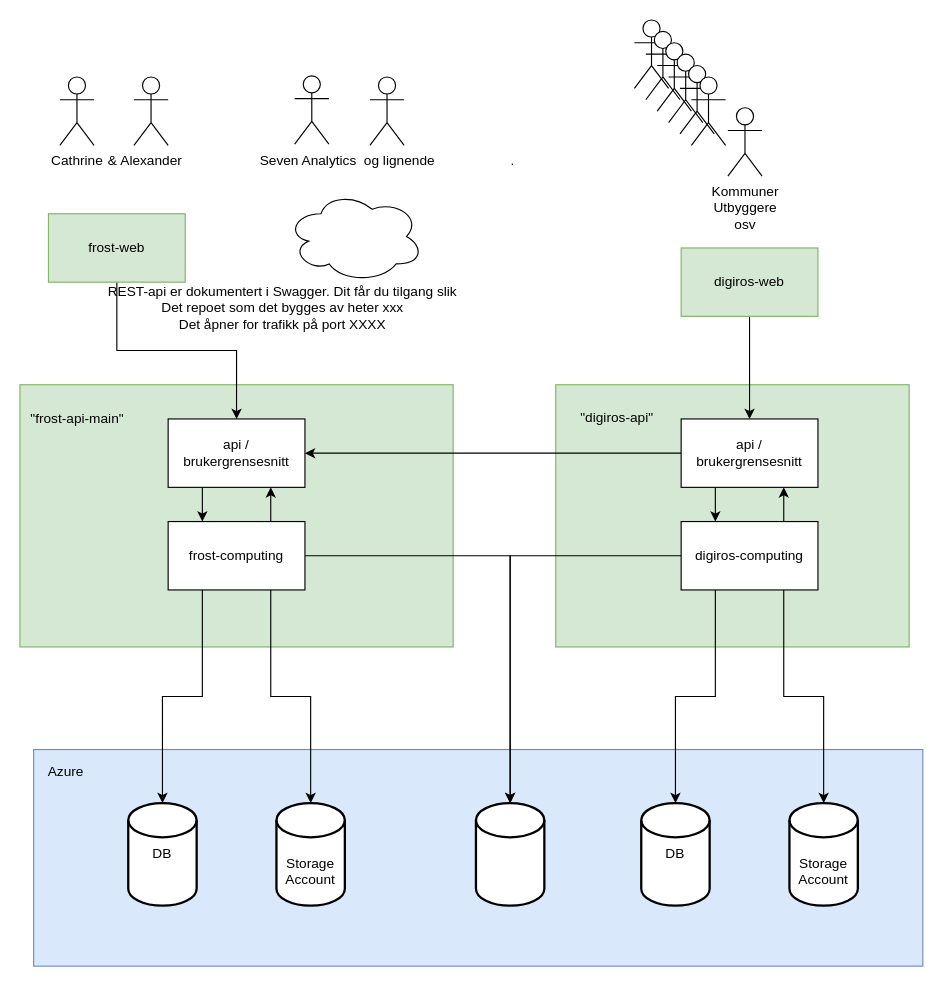
This 943x986 diagram has some shape labels left out. Each missing label, with the centre of its shape:
"DB felles" belongs at [509,853].
"Internett" belongs at [355,236].
